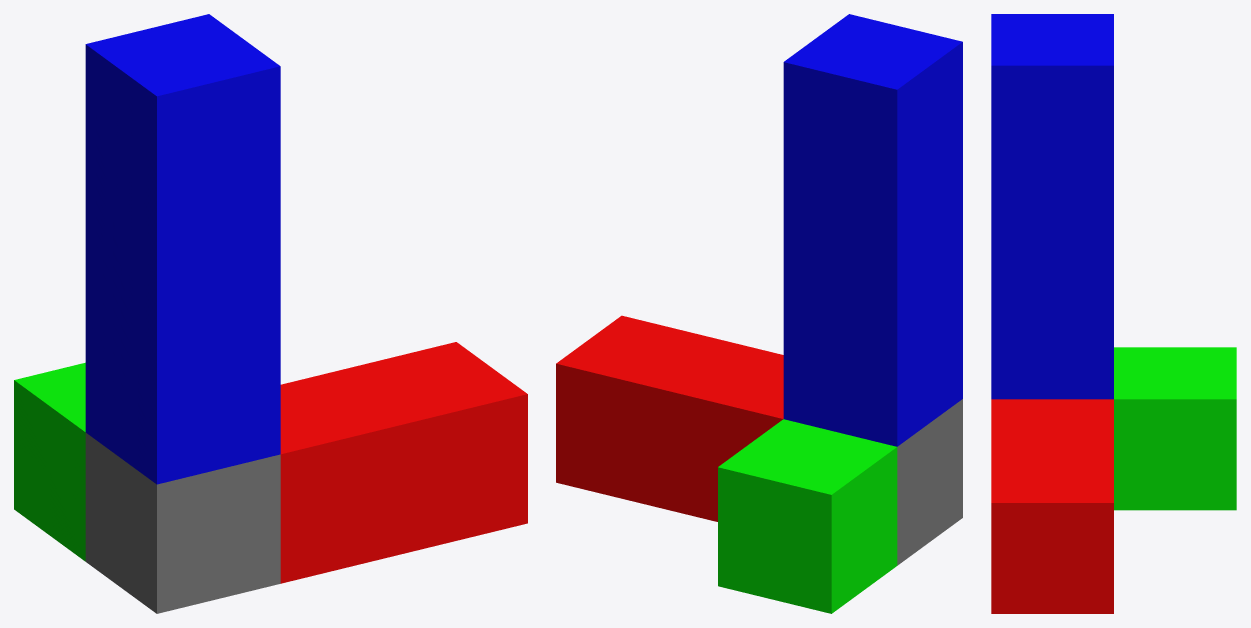
The model's file is axis-color.glb.
3 renders of one model, left to right at view 1: azimuth 30°, elevation 25°; view 2: azimuth 150°, elevation 25°; view 3: azimuth 270°, elevation 25°, orthographic. The views are drawn at different scales.
Visible parts, largest first — view 1: axis-color:chunk:0,0,0; view 2: axis-color:chunk:0,0,0; view 3: axis-color:chunk:0,0,0.
Part boxes in pixels (x1,y1,x2,y2): axis-color:chunk:0,0,0: (14, 14, 527, 613); axis-color:chunk:0,0,0: (556, 14, 962, 613); axis-color:chunk:0,0,0: (991, 14, 1236, 613).
Bounding box in the file's own units: 0.75 × 1 × 0.5.
